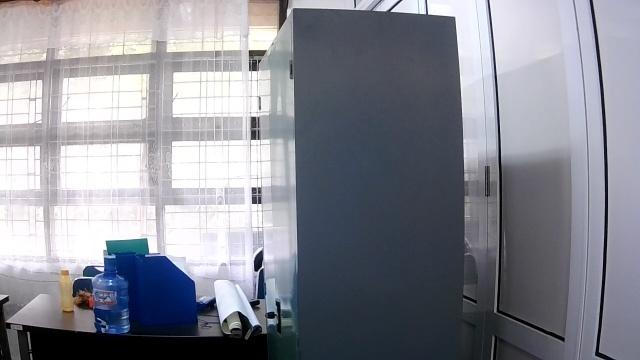Meja: (2, 292, 266, 343)
